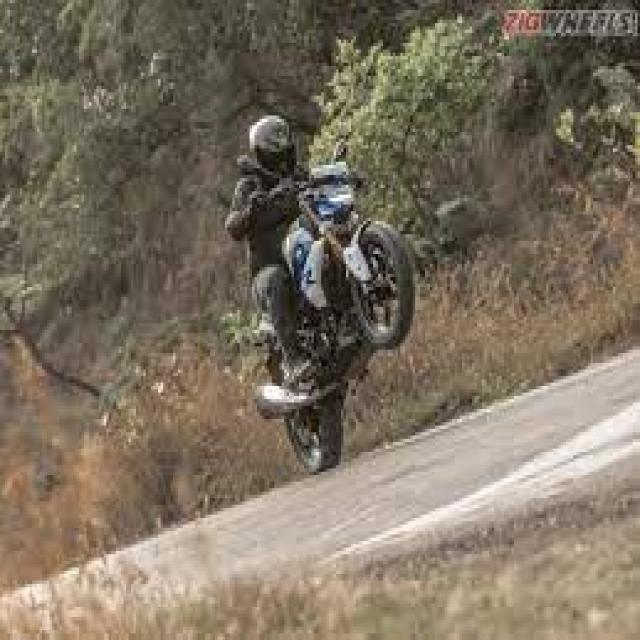Bike: (235, 138, 416, 475)
